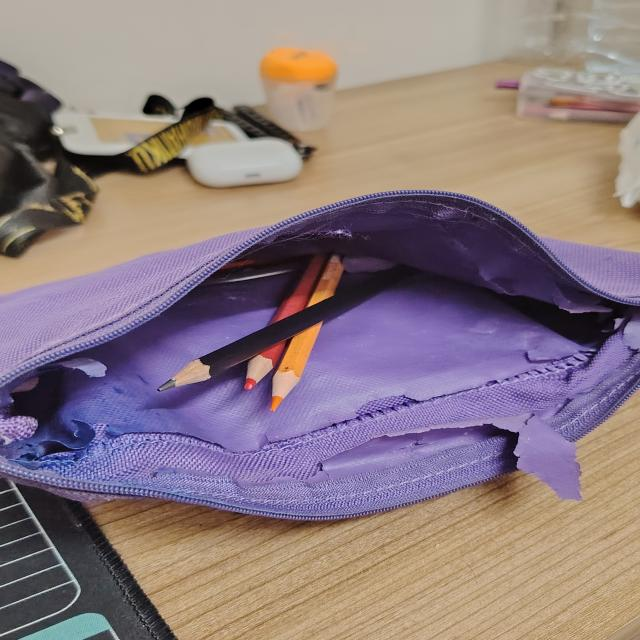pencil: (157, 265, 416, 391), (244, 253, 330, 389), (271, 254, 344, 411)
sharpener: (260, 47, 337, 131)
